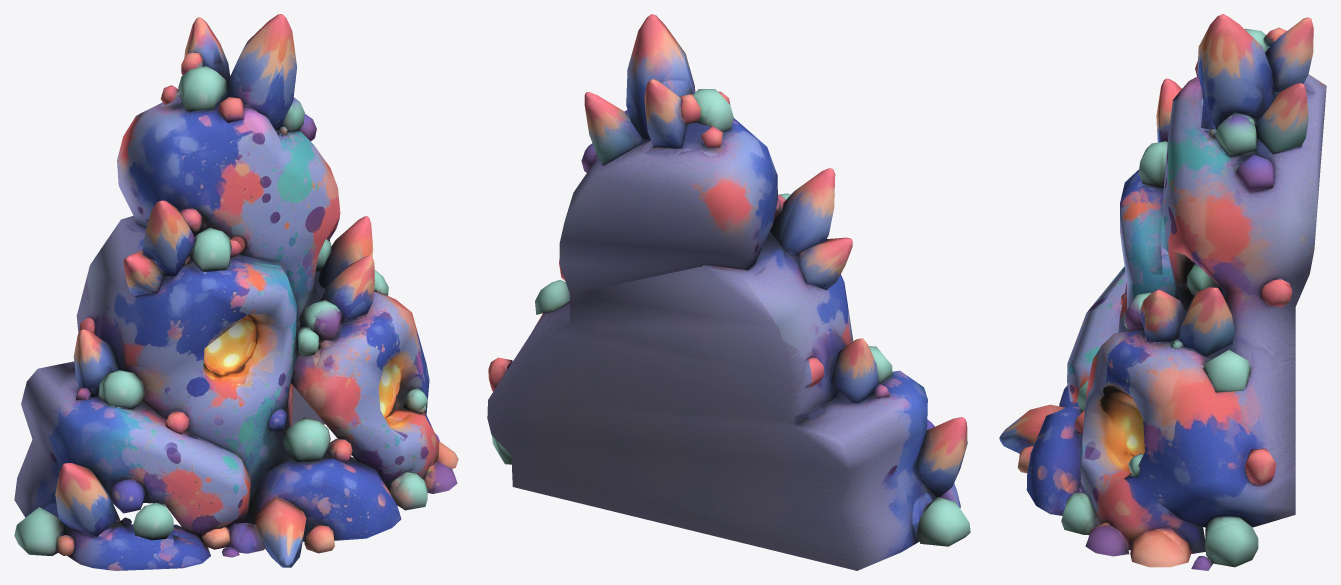
The model's file is alien_rock_01.glb.
3 views of the same model, side by side, from view 1: azimuth 30°, elevation 25°; view 2: azimuth 150°, elevation 25°; view 3: azimuth 270°, elevation 25° (orthographic). The views are drawn at different scales.
Parts seen in each view (by area): view 1: tripo_node_aea0a459-4faf-40e8-9bae-ede5569e6719; view 2: tripo_node_aea0a459-4faf-40e8-9bae-ede5569e6719; view 3: tripo_node_aea0a459-4faf-40e8-9bae-ede5569e6719.
Part boxes in pixels (x1,y1,x2,y2): tripo_node_aea0a459-4faf-40e8-9bae-ede5569e6719: (14,14,458,570); tripo_node_aea0a459-4faf-40e8-9bae-ede5569e6719: (487,14,970,570); tripo_node_aea0a459-4faf-40e8-9bae-ede5569e6719: (999,14,1326,570).
Bounding box in the file's own units: 0.9868 × 0.9995 × 0.6167.
Materials: 1 (1 with a texture image).
